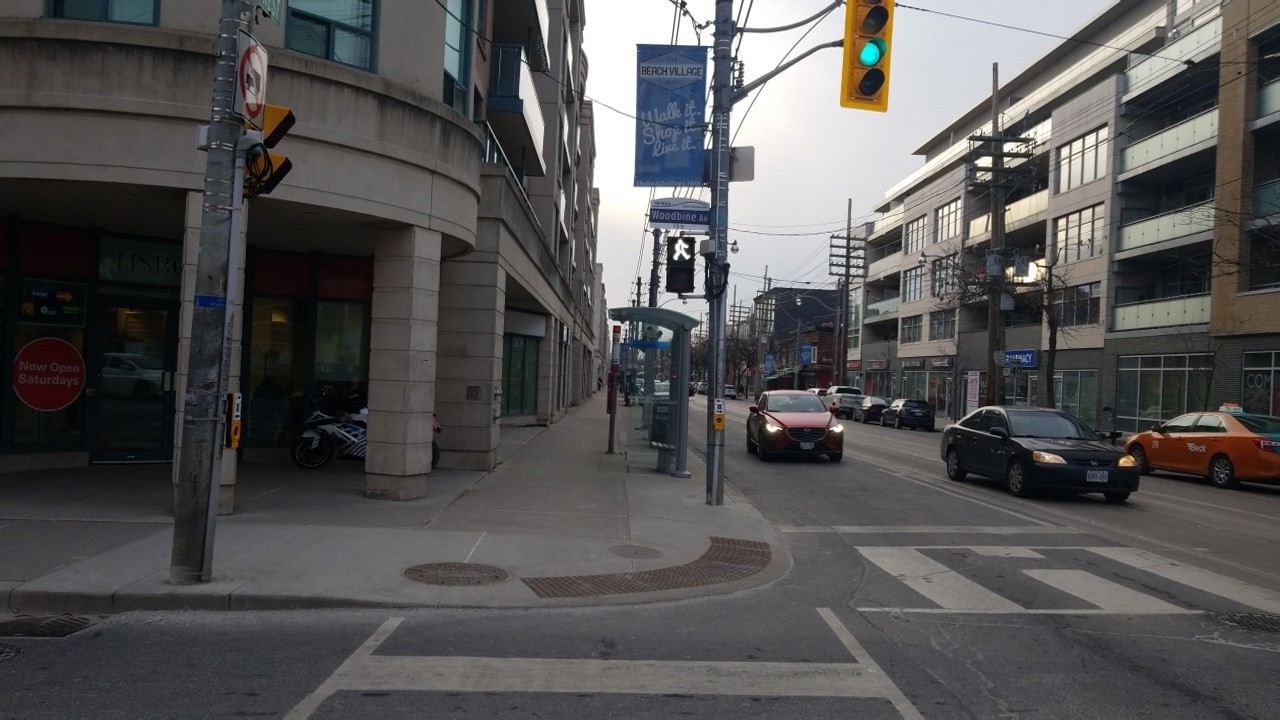light: (664, 230, 697, 299)
